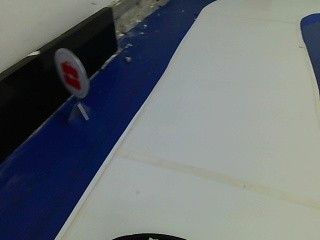company: (50, 45, 90, 103)
